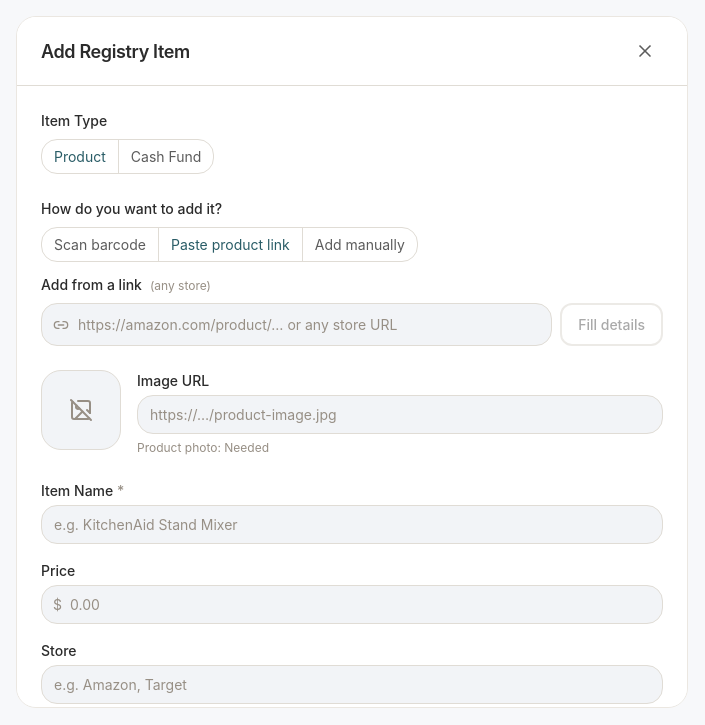
Scenario: RegistryItemForm › does not auto-fill over manual edits after the owner clicks fill details
The width and height of the screenshot is (705, 725).
Later steps or results of the test are not shown.
Type "https://example.com/product" into the field with placeholder "https://amazon.com/product/… or any store URL" at (297, 325), box [41,303,552,346]
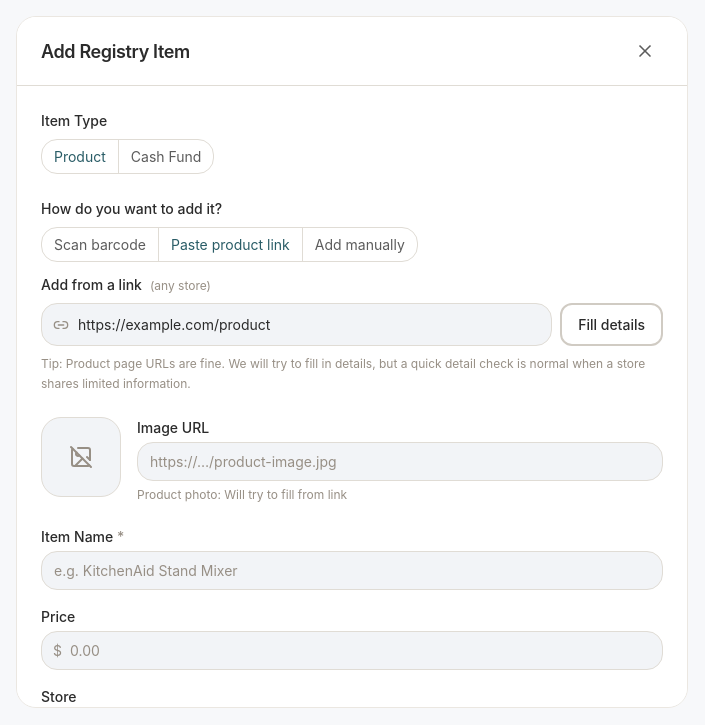
Click the button "Fill details" at (612, 325), box [560,303,663,346]
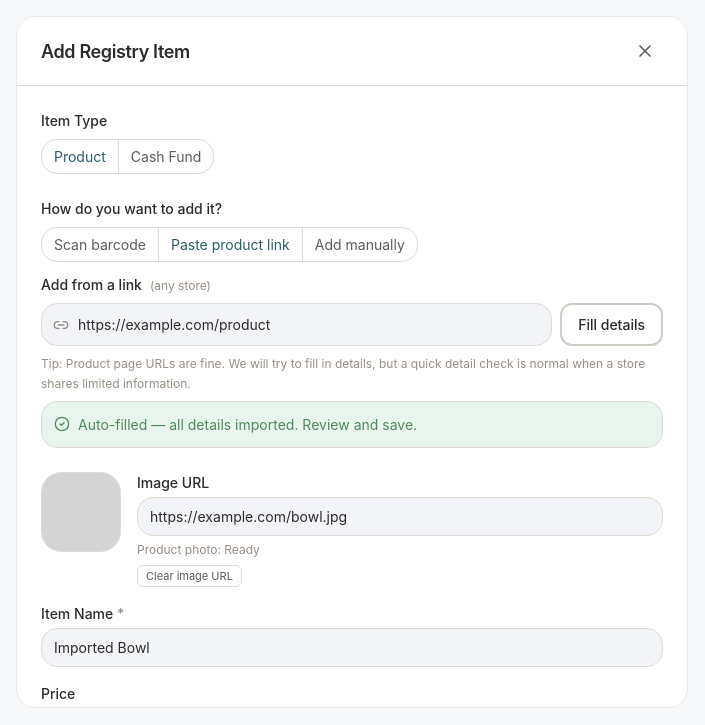
Check: the field with placeholder "e.g. KitchenAid Stand Mixer" below "Item Name" holds "Imported Bowl", box [41,628,663,668]
